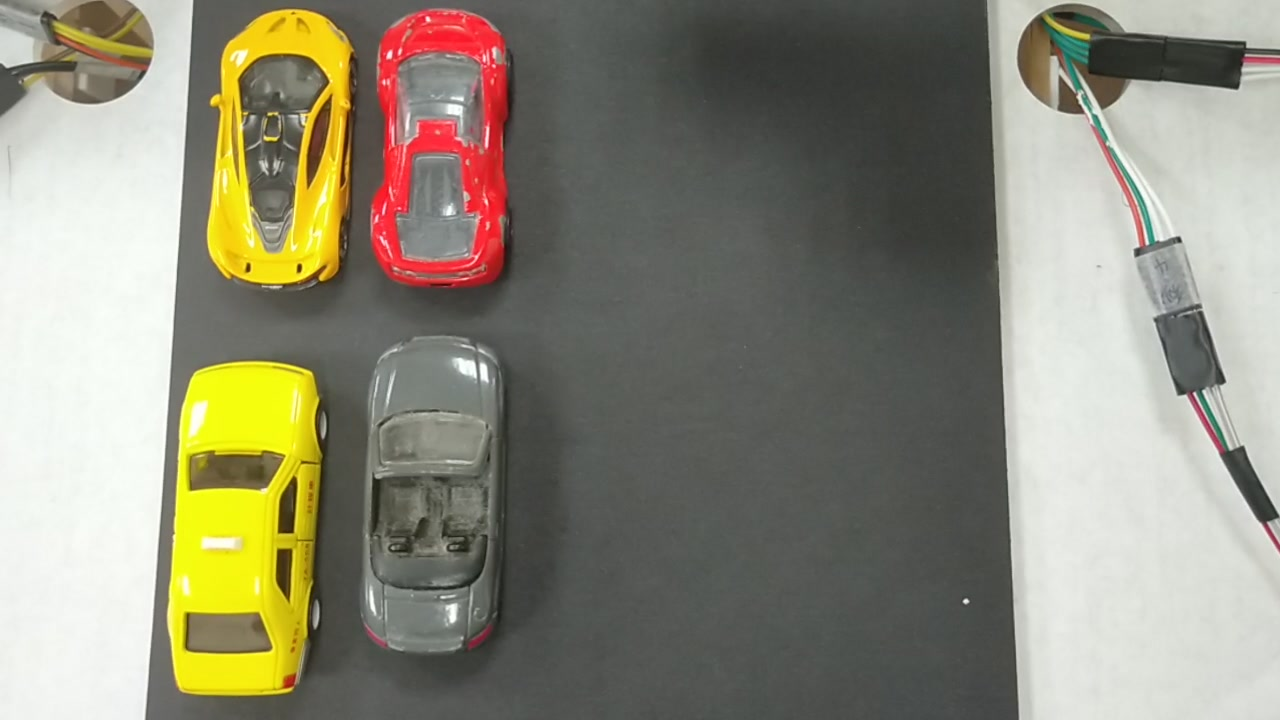car: (168, 371, 335, 704), (206, 24, 361, 295), (371, 338, 500, 651), (375, 15, 503, 283)
